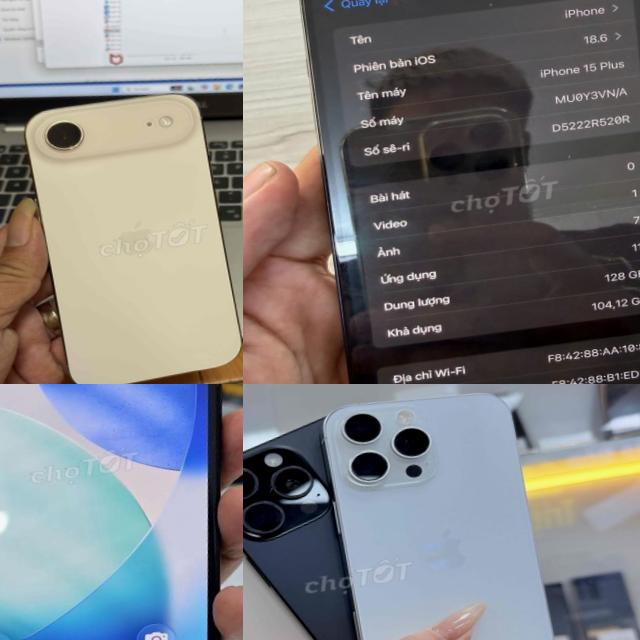gen_15: (258, 0, 640, 384)
gen_16: (315, 384, 582, 640), (0, 384, 220, 640)
gen_17: (19, 77, 243, 384)
